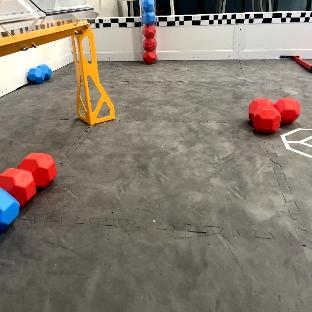Goal: (0, 0, 115, 125)
V5_BLUE: (0, 187, 19, 230), (27, 64, 50, 83)
V5_RED: (0, 152, 56, 207), (248, 98, 300, 132), (144, 50, 156, 64)
